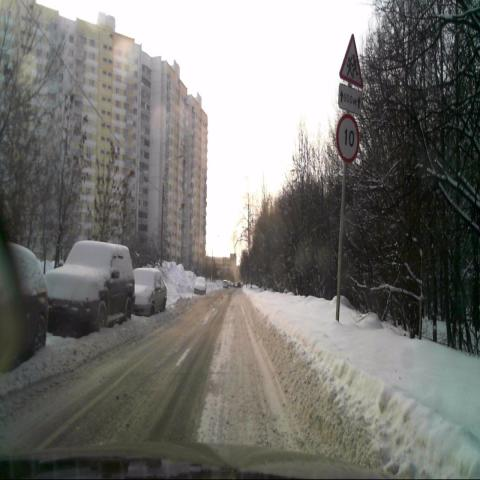3_24: (336, 112, 361, 167)
